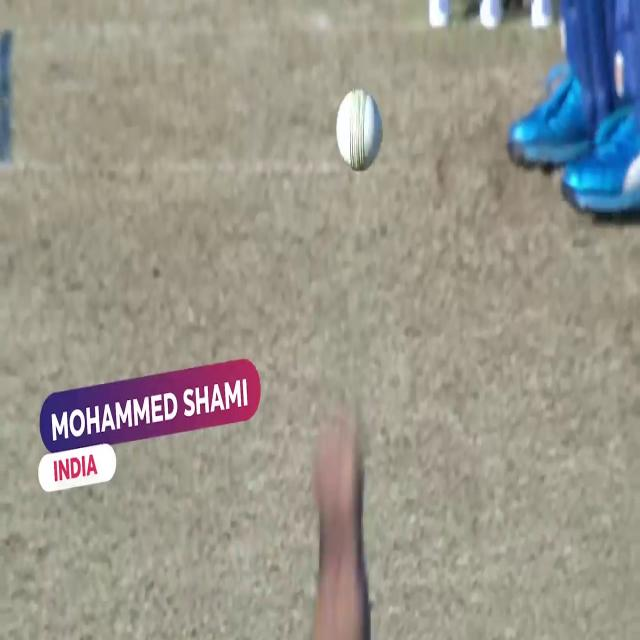ball: (336, 87, 386, 174)
